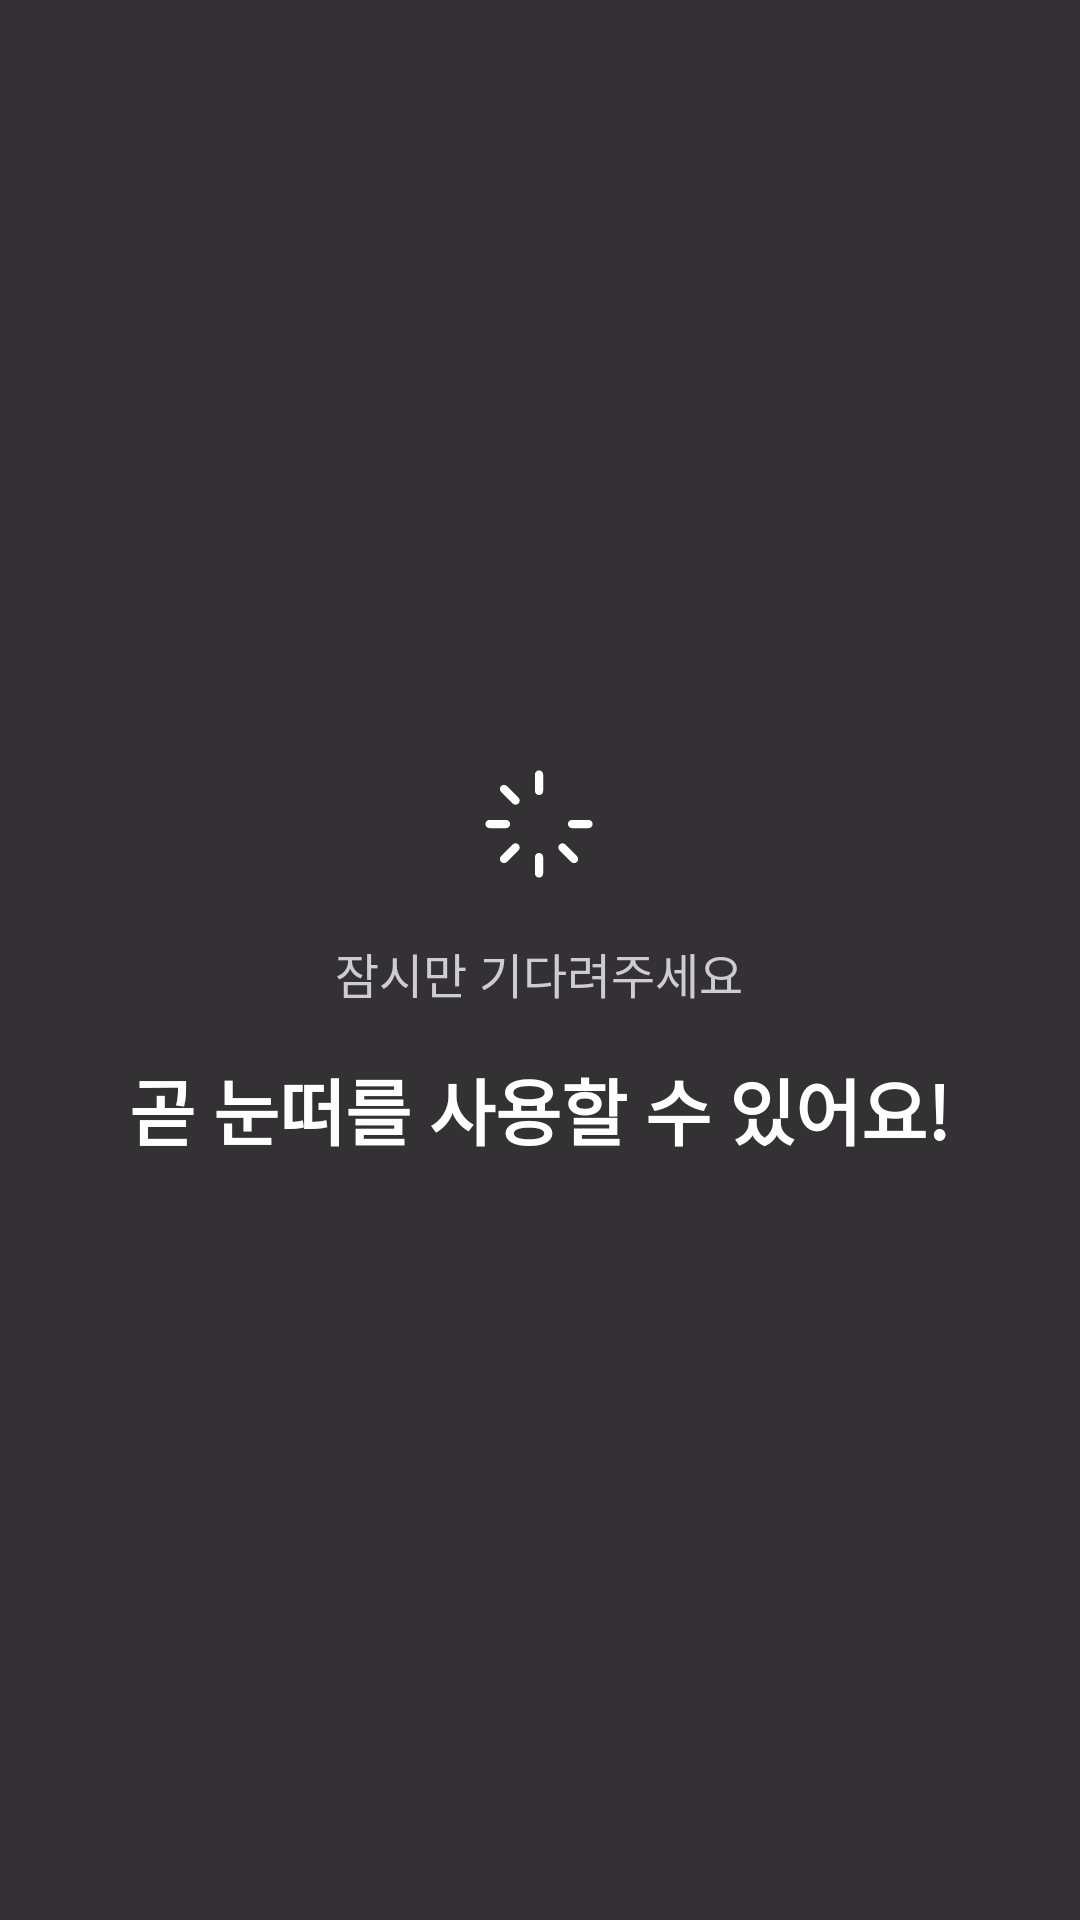

Locate icon controls on the screen. Image size 1080 x 1920, boxes as (x1, y1, x2, y2).
loading: (485, 770, 593, 878)
